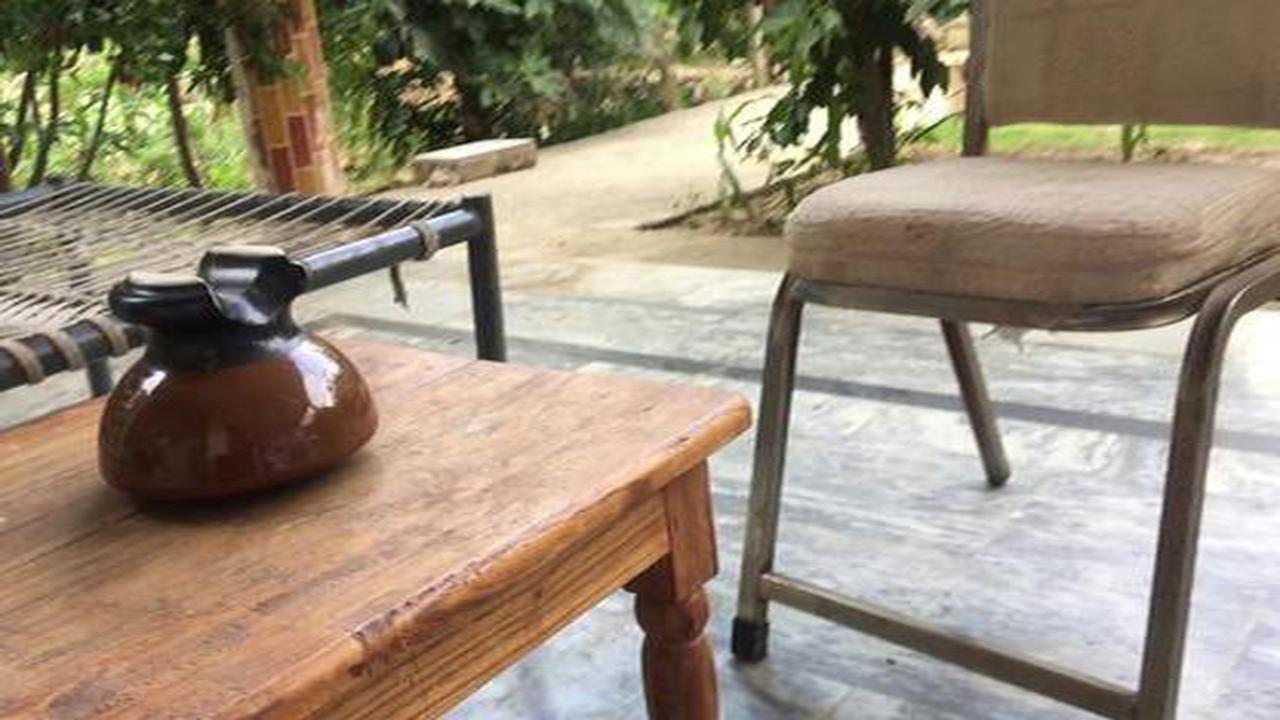insulator_pin: (71, 222, 391, 527)
